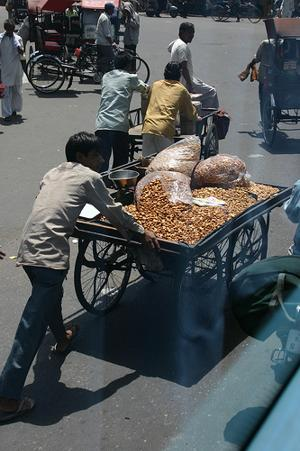person: (2, 132, 163, 426)
